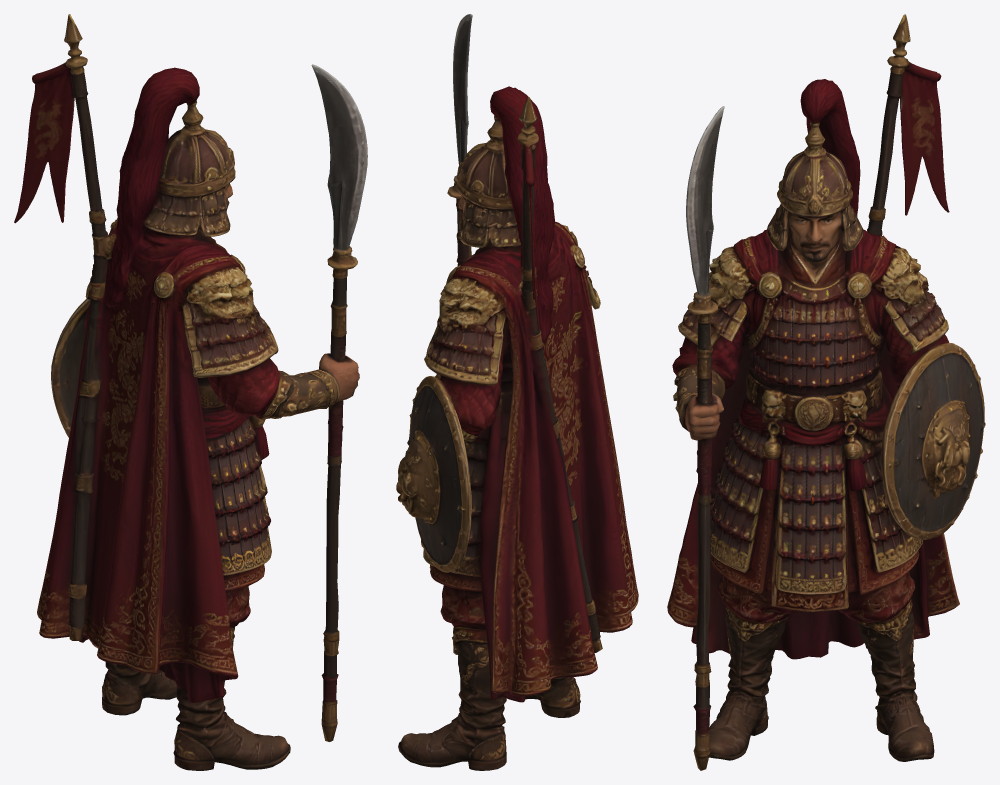
File: vanguard-EmberKhan-tripo.glb
The picture shows the model from 3 angles, left to right: view 1: azimuth 30°, elevation 25°; view 2: azimuth 150°, elevation 25°; view 3: azimuth 270°, elevation 25°; orthographic projection. The views are drawn at different scales.
Visible parts, largest first — view 1: tripo_node_6dfad854-fdb3-4319-abfc-9046b7a71b2e; view 2: tripo_node_6dfad854-fdb3-4319-abfc-9046b7a71b2e; view 3: tripo_node_6dfad854-fdb3-4319-abfc-9046b7a71b2e.
Part boxes in pixels (left/top/right/bottom): tripo_node_6dfad854-fdb3-4319-abfc-9046b7a71b2e: left=14, top=14, right=367, bottom=770; tripo_node_6dfad854-fdb3-4319-abfc-9046b7a71b2e: left=396, top=14, right=638, bottom=770; tripo_node_6dfad854-fdb3-4319-abfc-9046b7a71b2e: left=667, top=14, right=985, bottom=770.
Bounding box in the file's own units: 0.3526 × 1 × 0.4157.
1 material, 1 textured.
